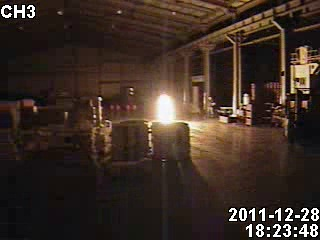fire: (151, 89, 177, 128)
